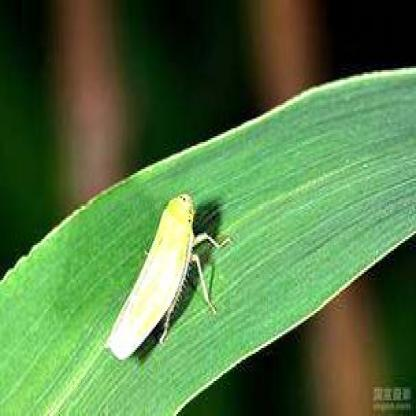green-leafhopper: (106, 194, 224, 356)
